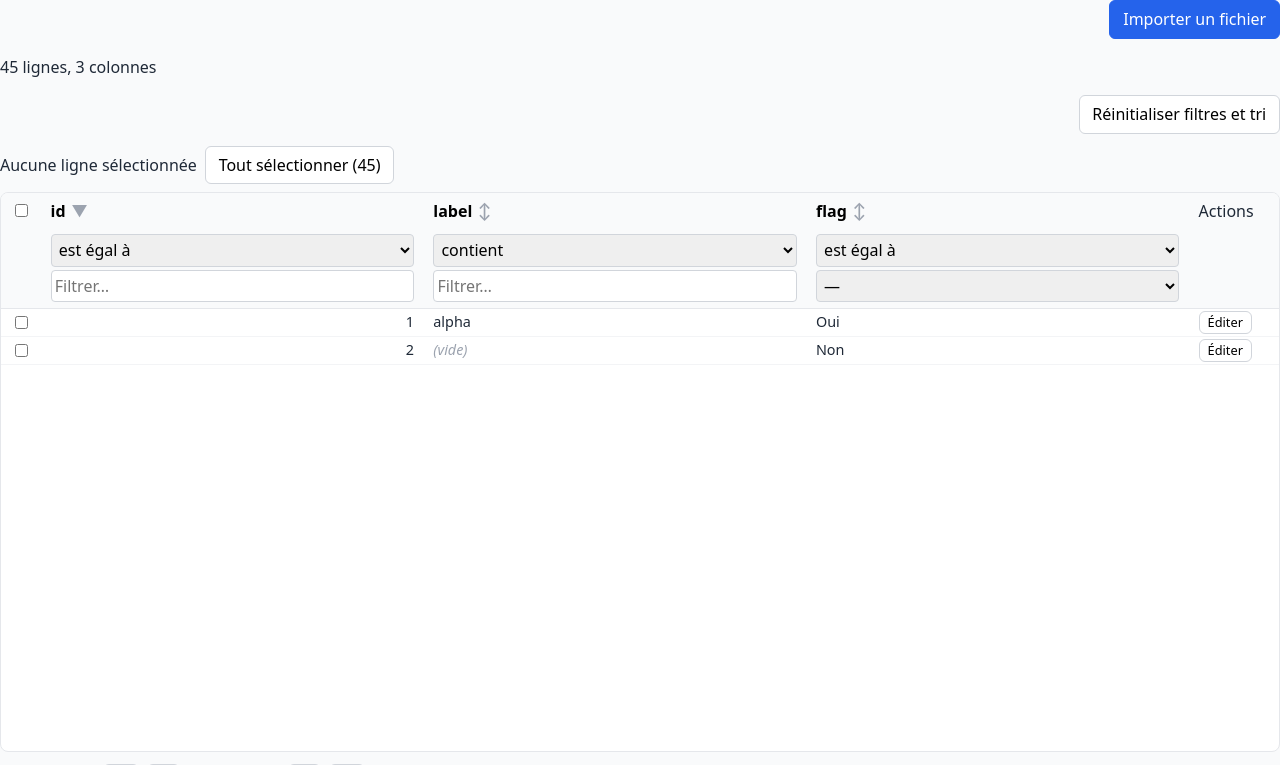
DataTab: table › edits a row after confirmation, then refetches with the same page, sort and filters
// Page 2 of size 20: the first displayed row is number 21.
Step 1. Click the button with aria-label "Éditer la ligne 21" → x=1225, y=322, box [1199,311,1252,334]
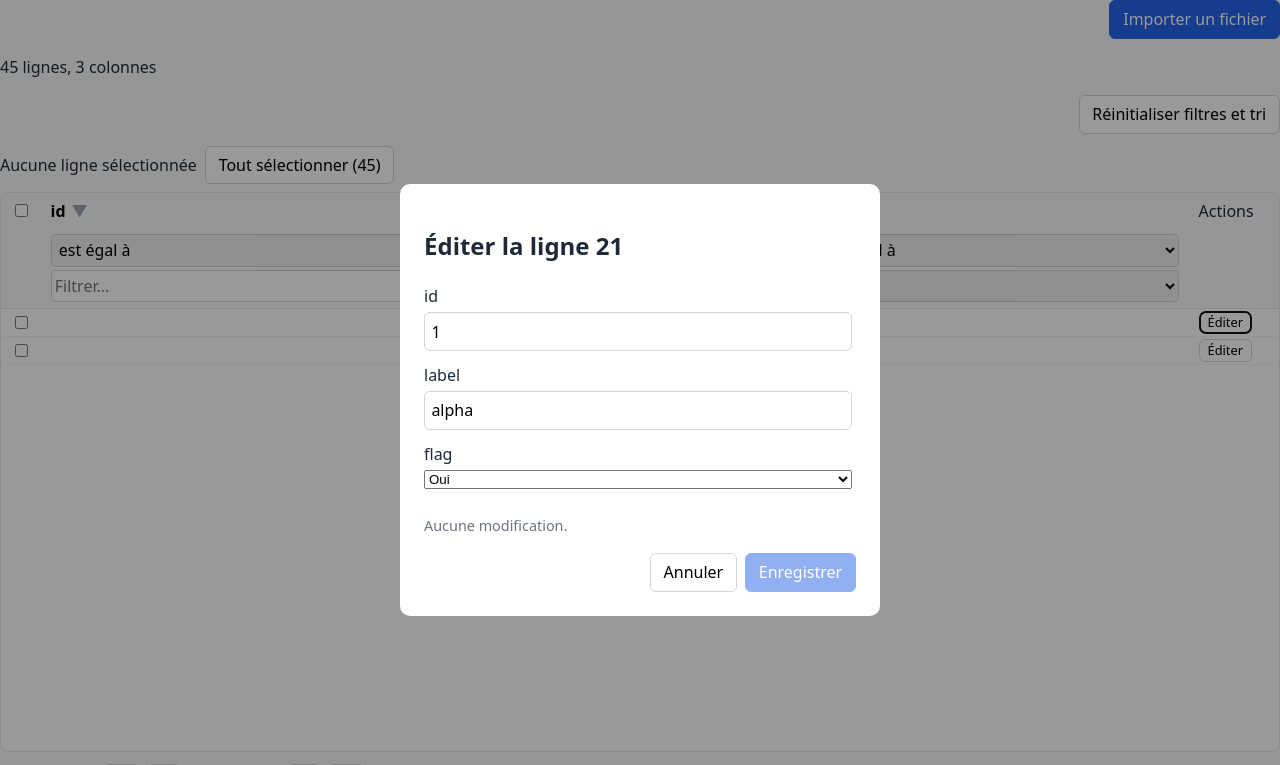
Step 2. Clear the field labelled "label" → x=638, y=410, box [424,391,852,430]
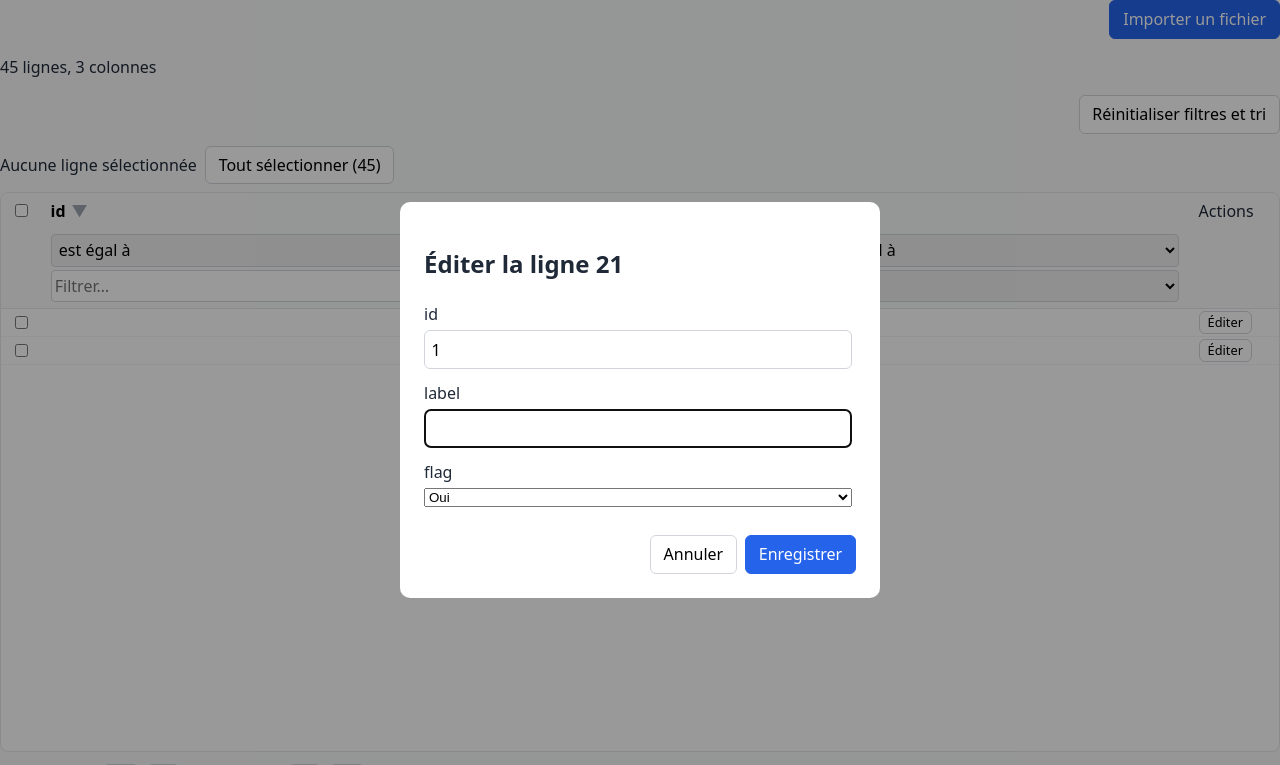
Step 3. Type "beta" into the field labelled "label" → x=638, y=428, box [424,409,852,448]
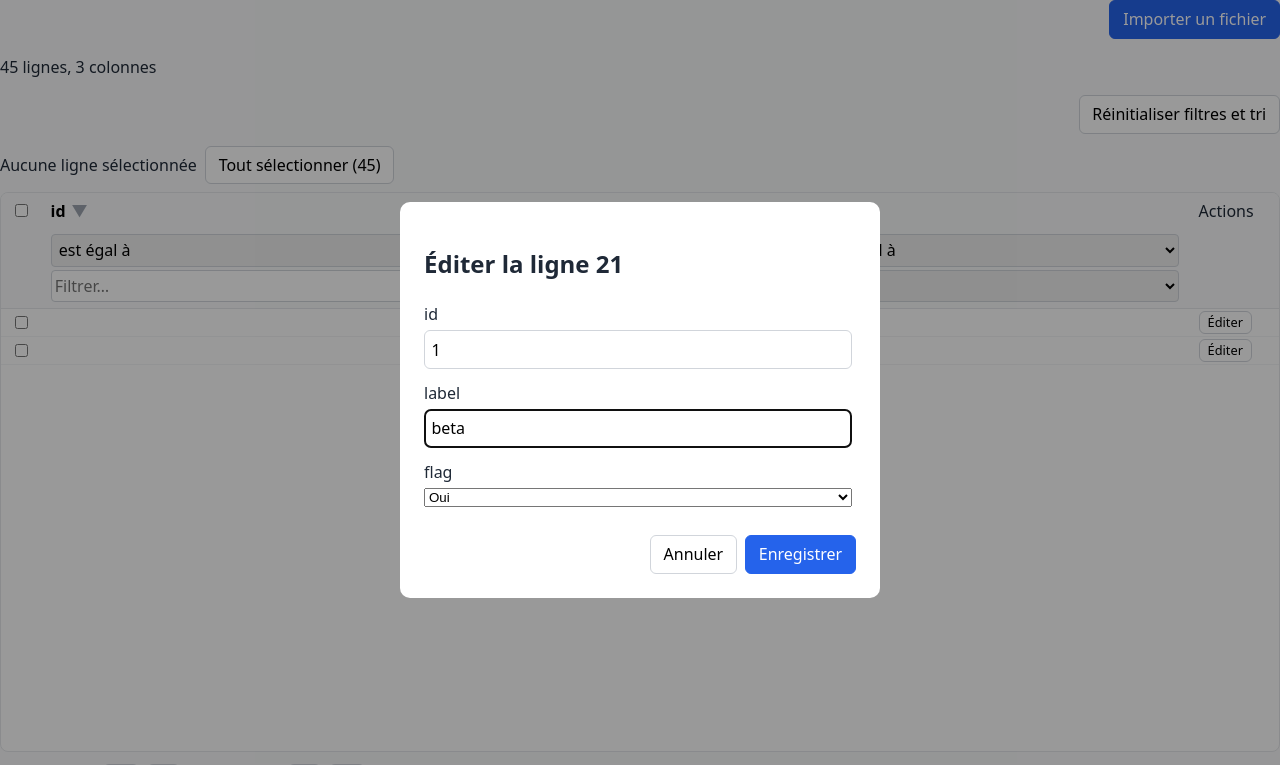
Step 4. Click the button "Enregistrer" → x=800, y=554, box [745,535,856,574]
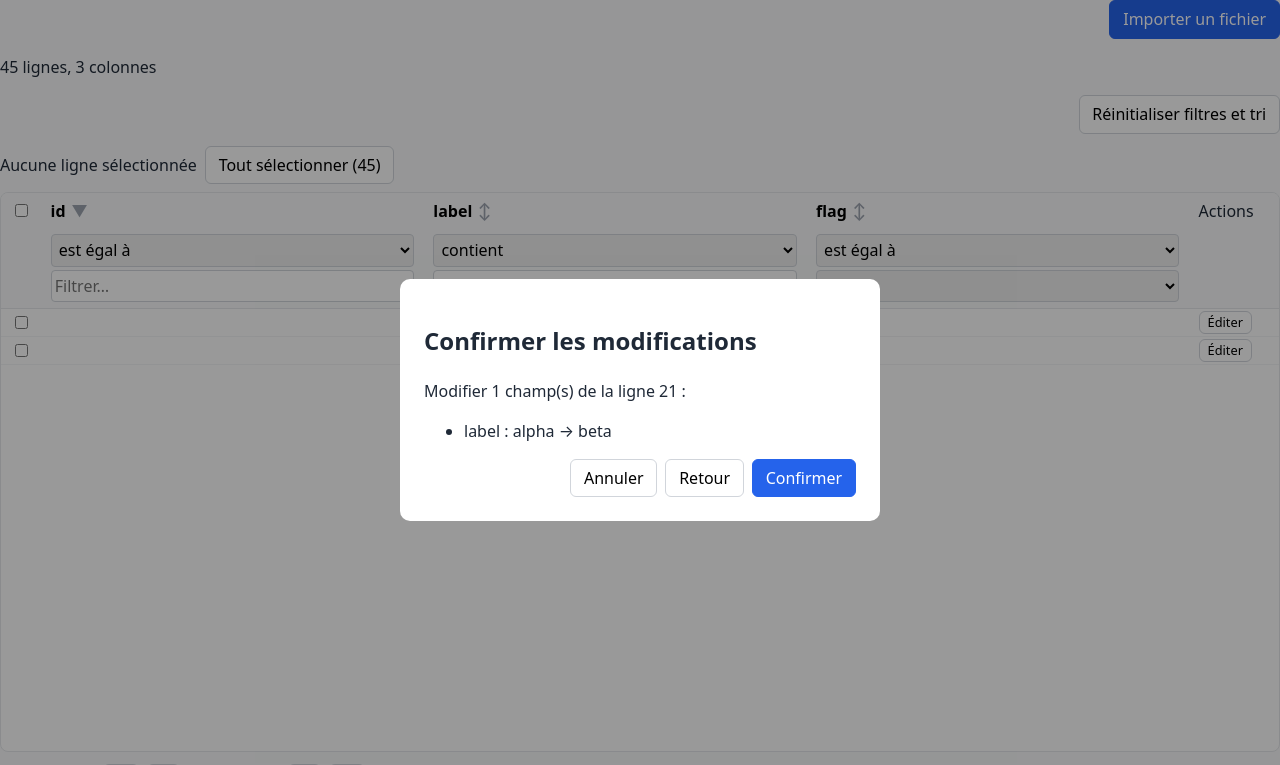
Step 5. Click the button "Confirmer" → x=804, y=478, box [752,458,856,497]
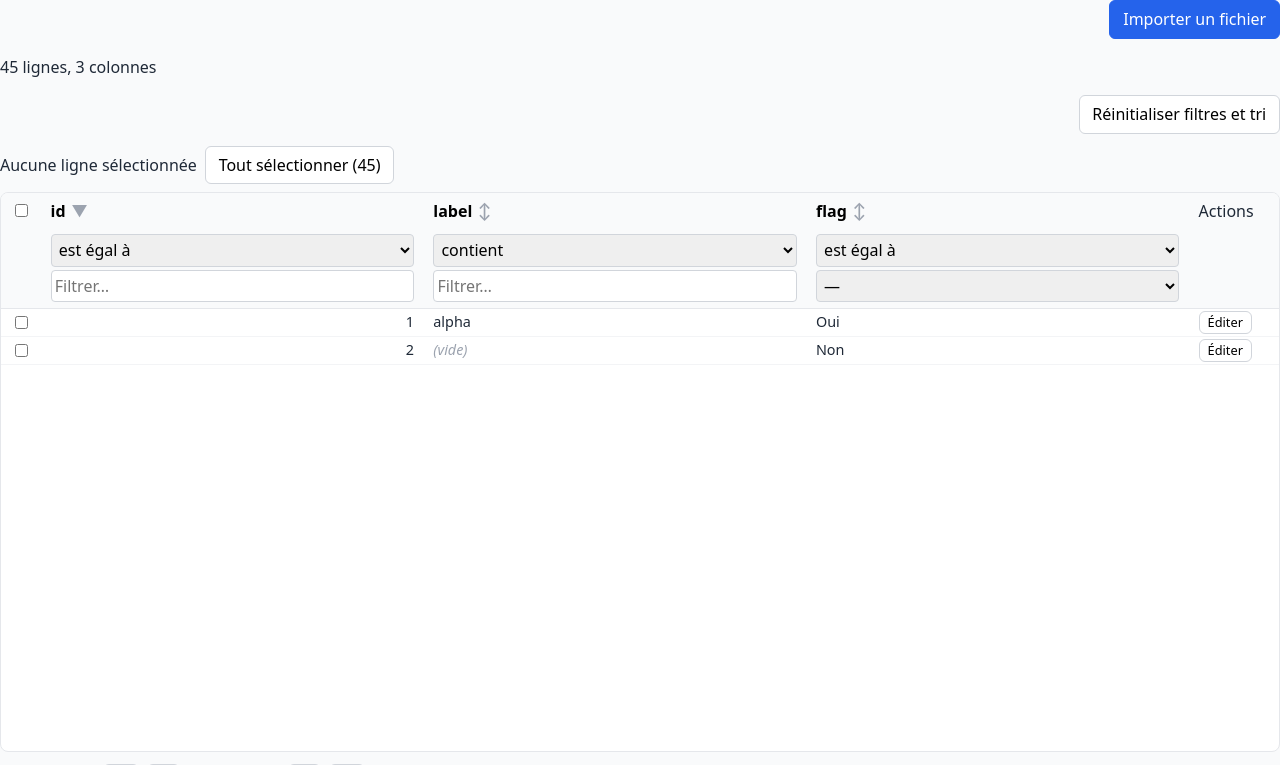
Expected: the dialog is gone
